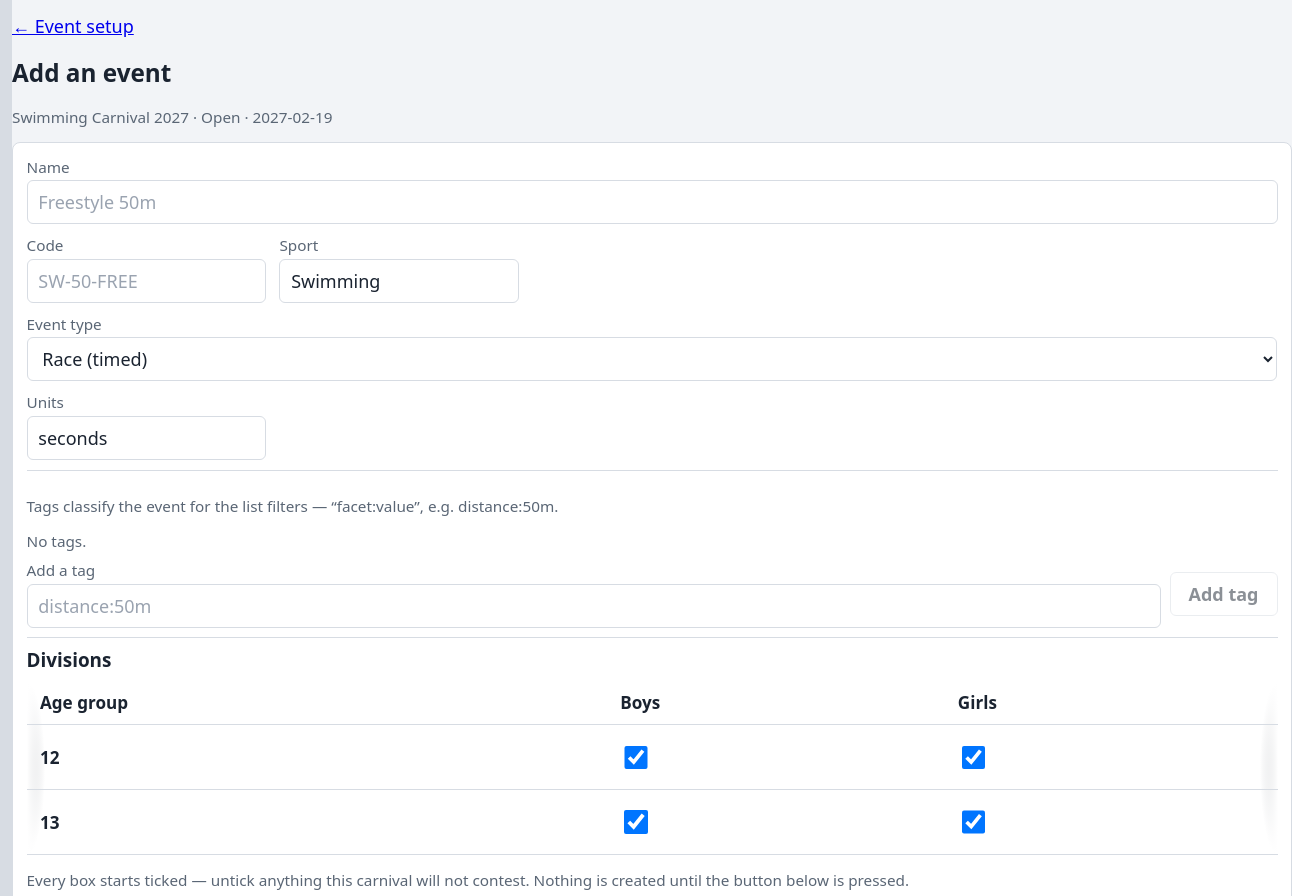
Test: NewEventScreen › refuses a bar that is not whole centimetres, in the form
Expected: the field labelled "Name" is shown, [26, 180, 1278, 224]
Select "Field — bar ladder (vertical jump)" in the dropdown labelled "Event type" at (652, 359), box [26, 337, 1278, 381]
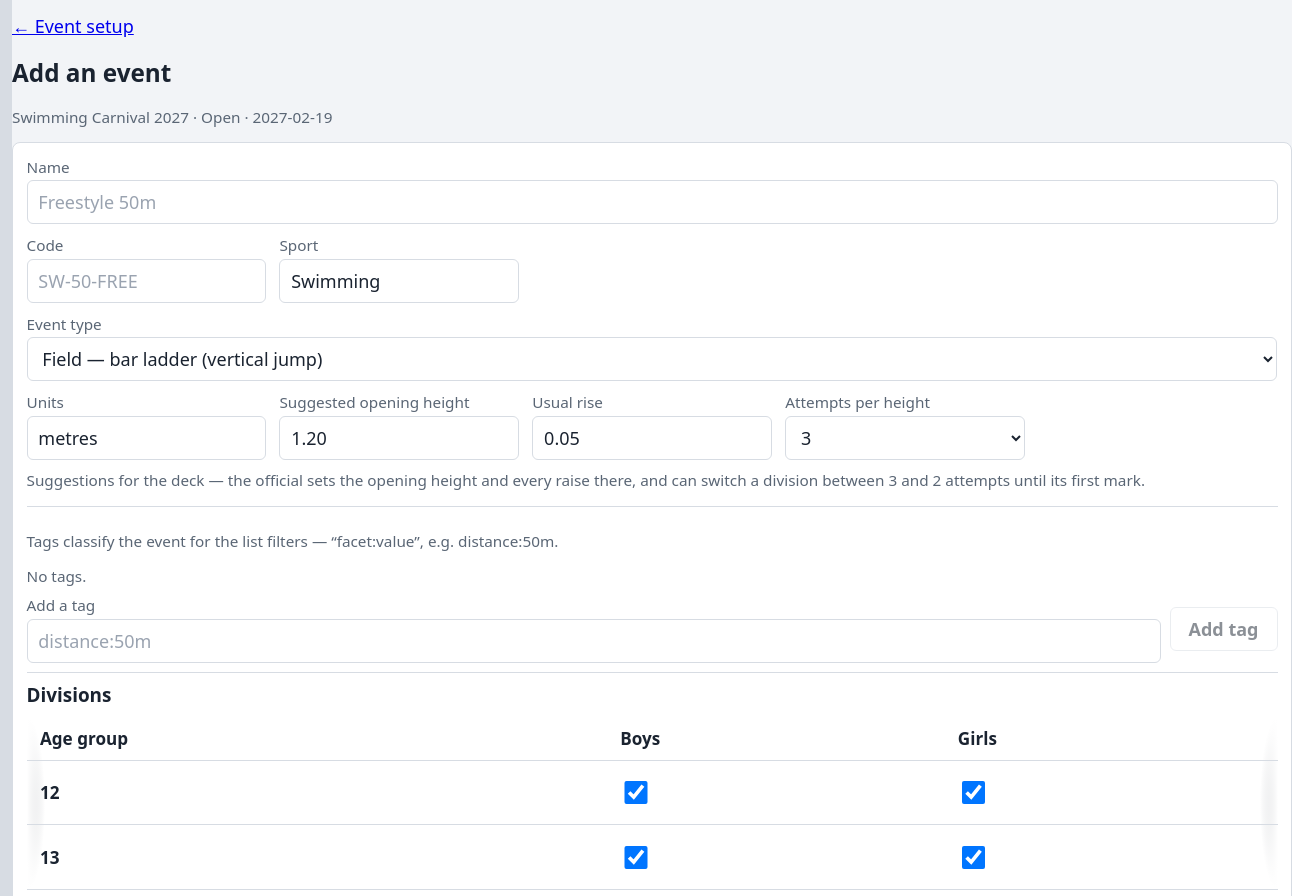
Type "High Jump" into the field labelled "Name" at (652, 202), box [26, 180, 1278, 224]
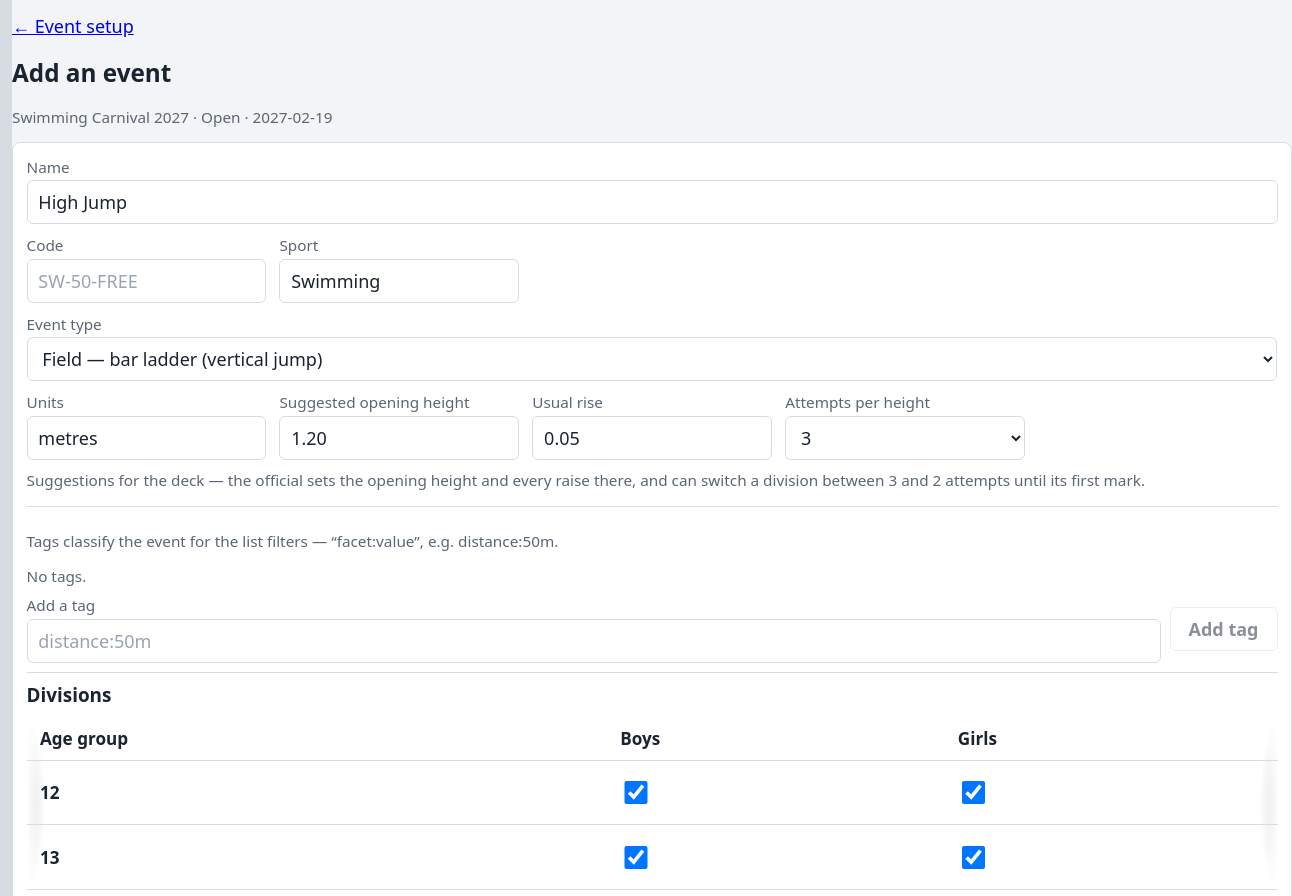
Type "AT-HIGH-JUMP" into the field labelled "Code" at (146, 281), box [26, 259, 266, 303]
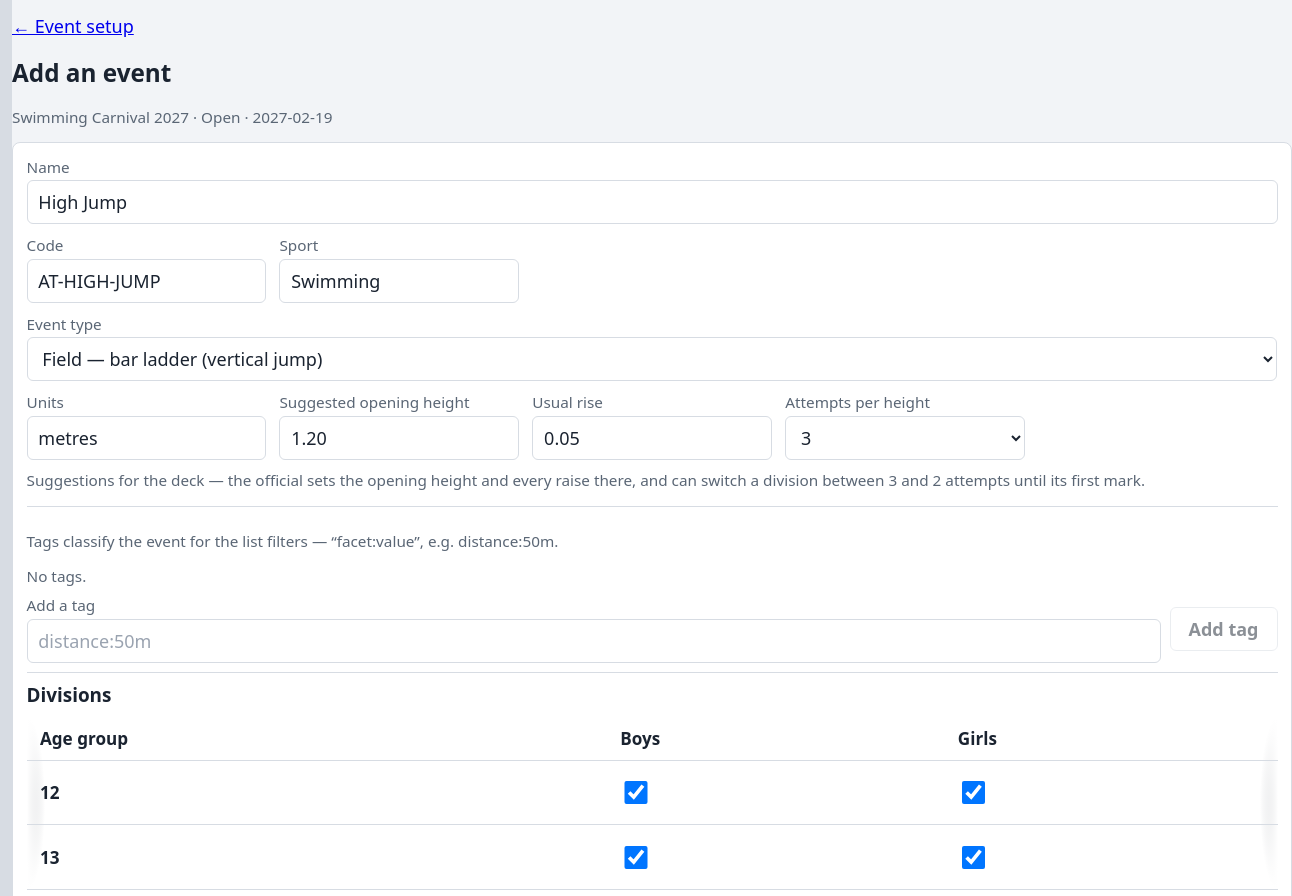
Type "0.055" into the number field labelled "Usual rise" at (652, 438), box [532, 416, 772, 460]
(page scrolled)
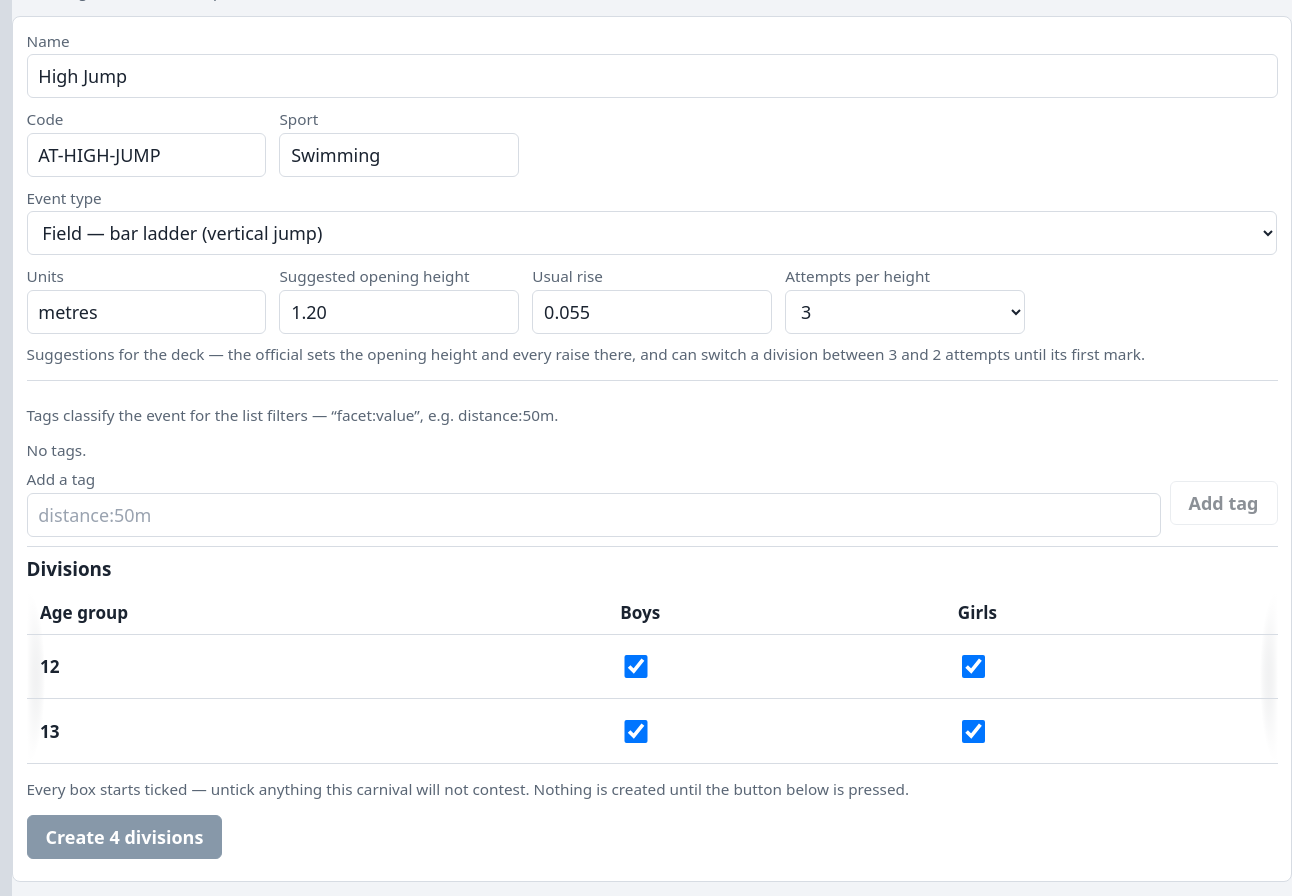
Now the button "Create 4 divisions" is disabled, box [26, 815, 222, 859]
